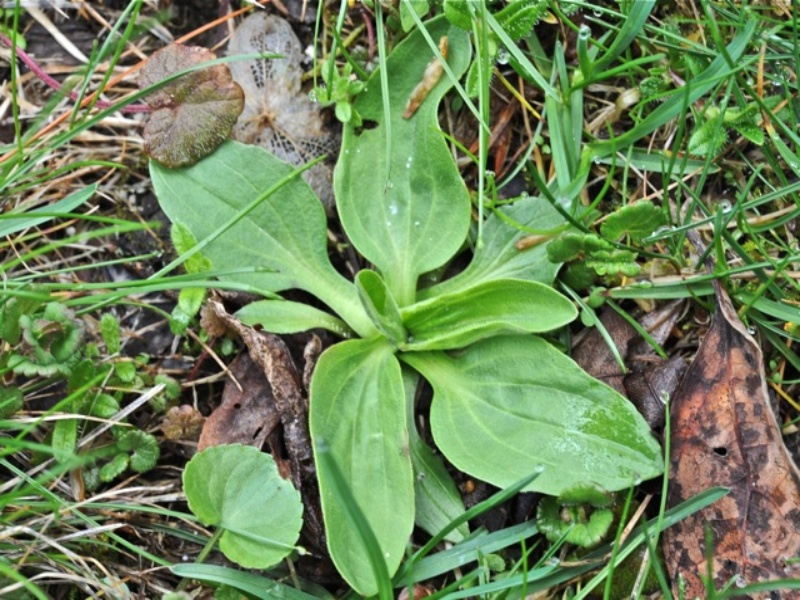weed: (233, 152, 552, 469), (7, 281, 176, 481), (45, 42, 249, 156), (183, 442, 306, 568), (553, 190, 666, 289)
